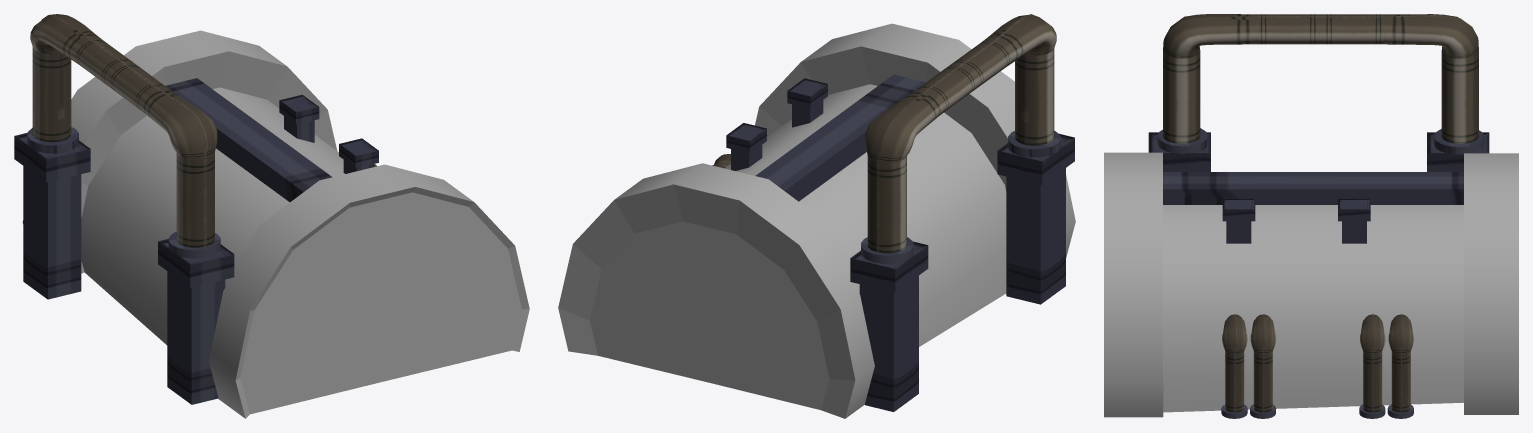
The model's file is Generador1.fbx.
The picture shows the model from 3 angles, left to right: view 1: azimuth 30°, elevation 25°; view 2: azimuth 150°, elevation 25°; view 3: azimuth 270°, elevation 25°; orthographic projection. The views are drawn at different scales.
Visible parts, largest first — view 1: Generador1; view 2: Generador1; view 3: Generador1.
Part boxes in pixels (bbox=[...]): Generador1: bbox=[14, 14, 529, 418]; Generador1: bbox=[558, 14, 1075, 418]; Generador1: bbox=[1104, 14, 1518, 418].
Size of the model in its own units: 7271 by 6048 by 8515.
2 materials, 1 textured.
